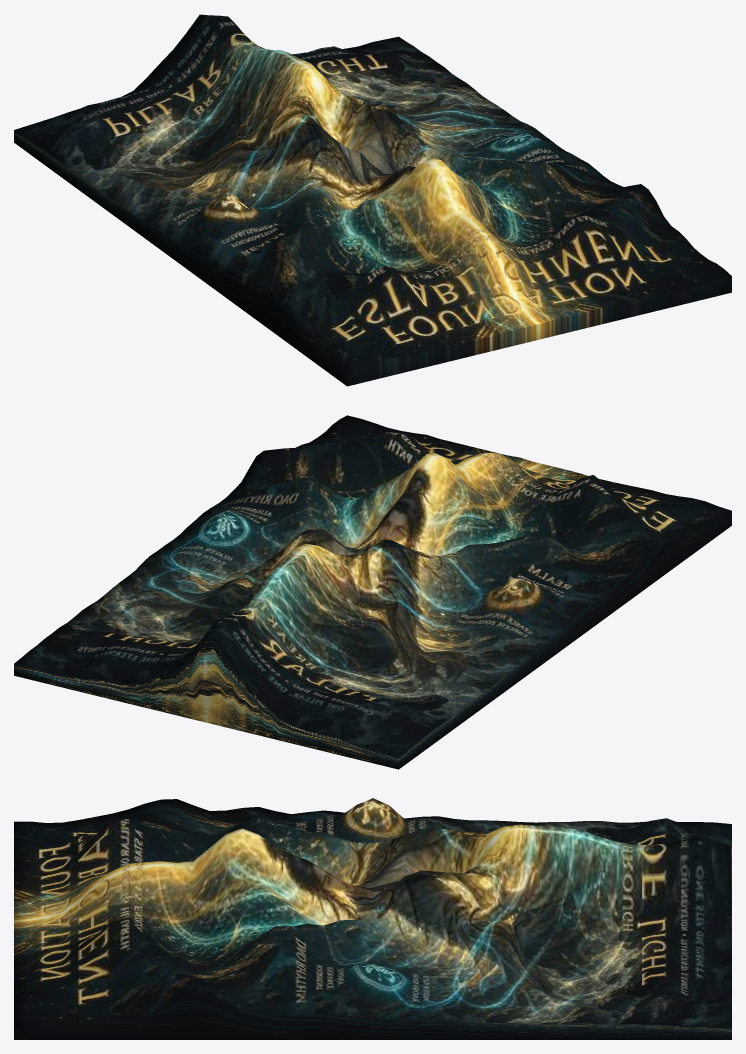
File: REALM_03_Foundation_Establishment.glb
The picture shows the model from 3 angles, top to bottom: view 1: azimuth 30°, elevation 25°; view 2: azimuth 150°, elevation 25°; view 3: azimuth 270°, elevation 25°; orthographic projection. The views are drawn at different scales.
Visible parts, largest first — view 1: REALM_03_Foundation_Establishment; view 2: REALM_03_Foundation_Establishment; view 3: REALM_03_Foundation_Establishment.
Boxes of the visible parts, left/top/right/bottom form: REALM_03_Foundation_Establishment: left=14, top=14, right=731, bottom=386; REALM_03_Foundation_Establishment: left=14, top=415, right=731, bottom=769; REALM_03_Foundation_Establishment: left=14, top=798, right=731, bottom=1039.
Bounding box in the file's own units: 2 × 0.51 × 3.
1 material, 1 textured.
